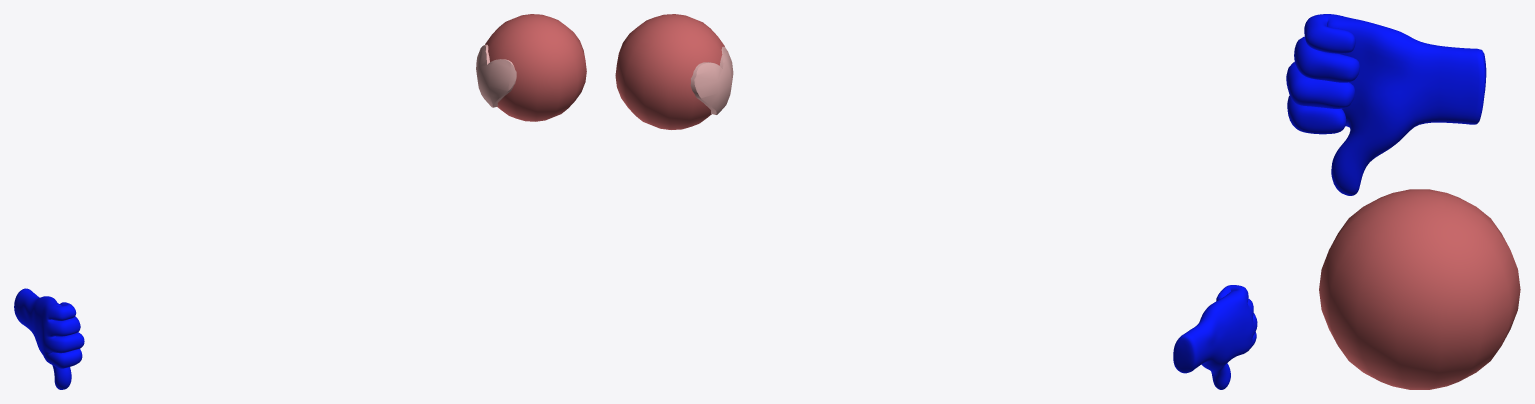
Rendered from like_dislike.gltf.
3 views of the same model, side by side, from view 1: azimuth 30°, elevation 25°; view 2: azimuth 150°, elevation 25°; view 3: azimuth 270°, elevation 25° (orthographic). The views are drawn at different scales.
Parts seen in each view (by area): view 1: head, hang19, heart; view 2: head, hang19, heart; view 3: head, hang19.
Boxes of the visible parts, x1=… form: head: x1=485, y1=14, x2=586, y2=121; hang19: x1=14, y1=288, x2=84, y2=389; heart: x1=476, y1=44, x2=516, y2=107; head: x1=615, y1=14, x2=724, y2=129; hang19: x1=1173, y1=285, x2=1257, y2=389; heart: x1=690, y1=46, x2=733, y2=114; head: x1=1319, y1=189, x2=1520, y2=389; hang19: x1=1286, y1=14, x2=1486, y2=195.
Bounding box in the file's own units: 11.82 × 4.79 × 2.29.
